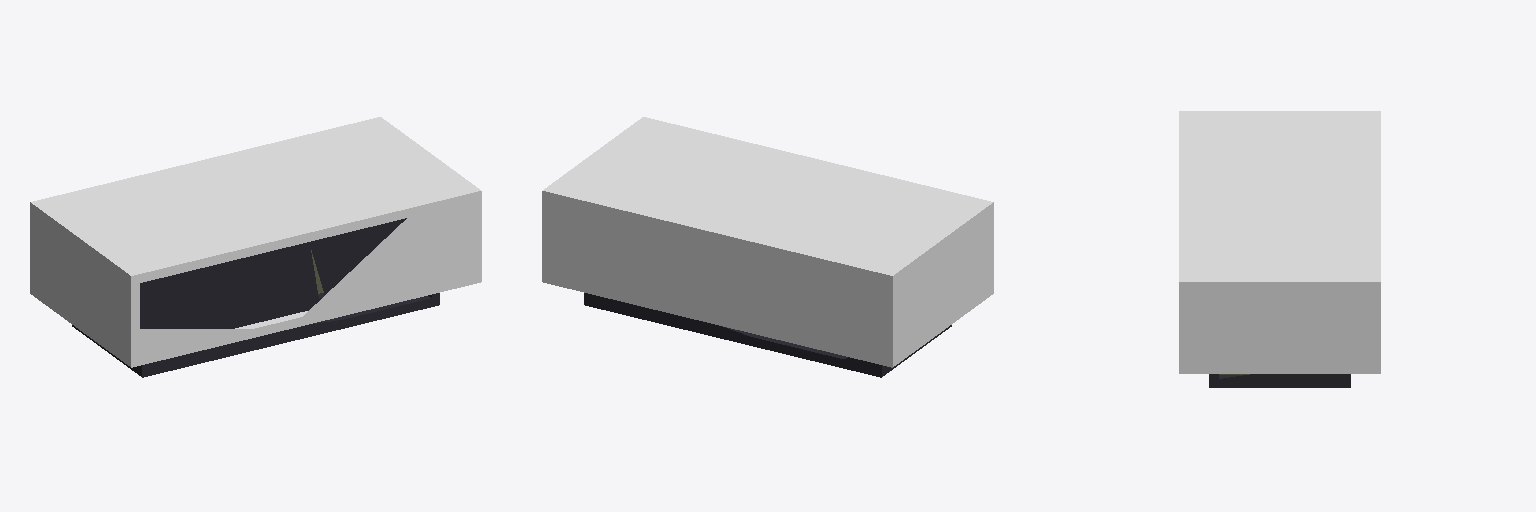
The model's file is sideboard.obj.
3 renders of one model, left to right at view 1: azimuth 30°, elevation 25°; view 2: azimuth 150°, elevation 25°; view 3: azimuth 270°, elevation 25°, orthographic.
Parts seen in each view (by area): view 1: sideboard_sideboard.004; view 2: sideboard_sideboard.004; view 3: sideboard_sideboard.004.
Boxes of the visible parts, box(x1,y1,x2,y2) form: sideboard_sideboard.004: box(30, 117, 481, 377); sideboard_sideboard.004: box(542, 117, 993, 377); sideboard_sideboard.004: box(1179, 111, 1380, 387).
Bounding box in the file's own units: 2.5 × 0.8125 × 1.25.